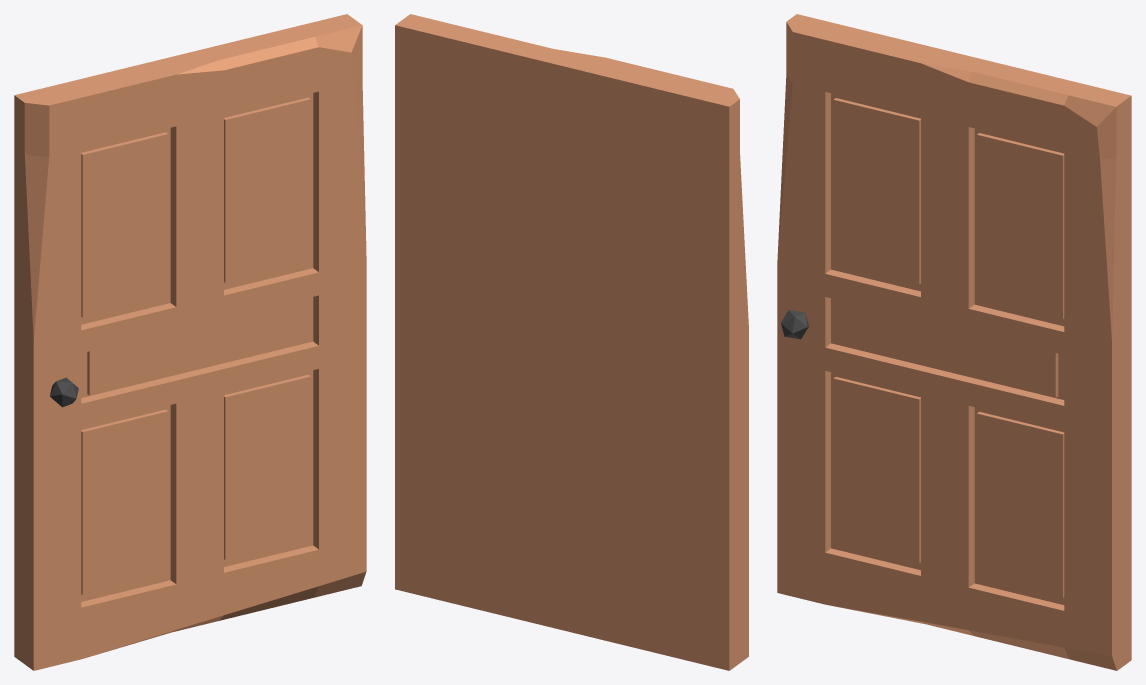
File: Door3.fbx
3 renders of one model, left to right at view 1: azimuth 30°, elevation 25°; view 2: azimuth 150°, elevation 25°; view 3: azimuth 330°, elevation 25°, orthographic.
Visible parts, largest first — view 1: Cube.144, Icosphere.001; view 2: Cube.144; view 3: Cube.144, Icosphere.001.
Boxes of the visible parts, x1,y1,x2,y2 form: Cube.144: (14,14,366,670); Icosphere.001: (50,377,78,407); Cube.144: (395,14,748,670); Cube.144: (777,14,1131,670); Icosphere.001: (781,310,808,339).
Size of the model in its own units: 200 by 322 by 34.64.
